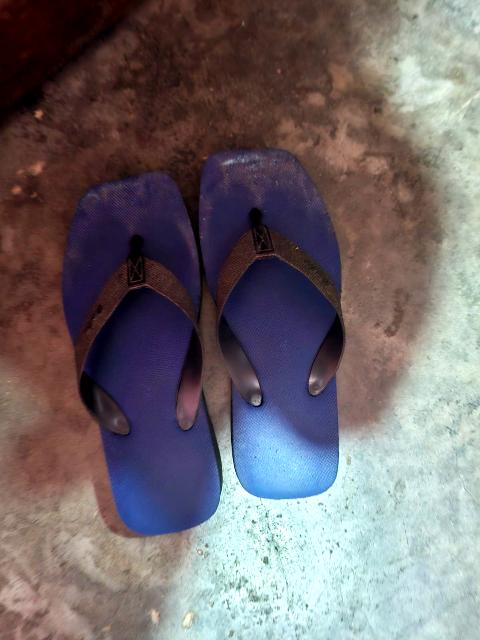sandal: (48, 156, 240, 550), (199, 150, 352, 490)
